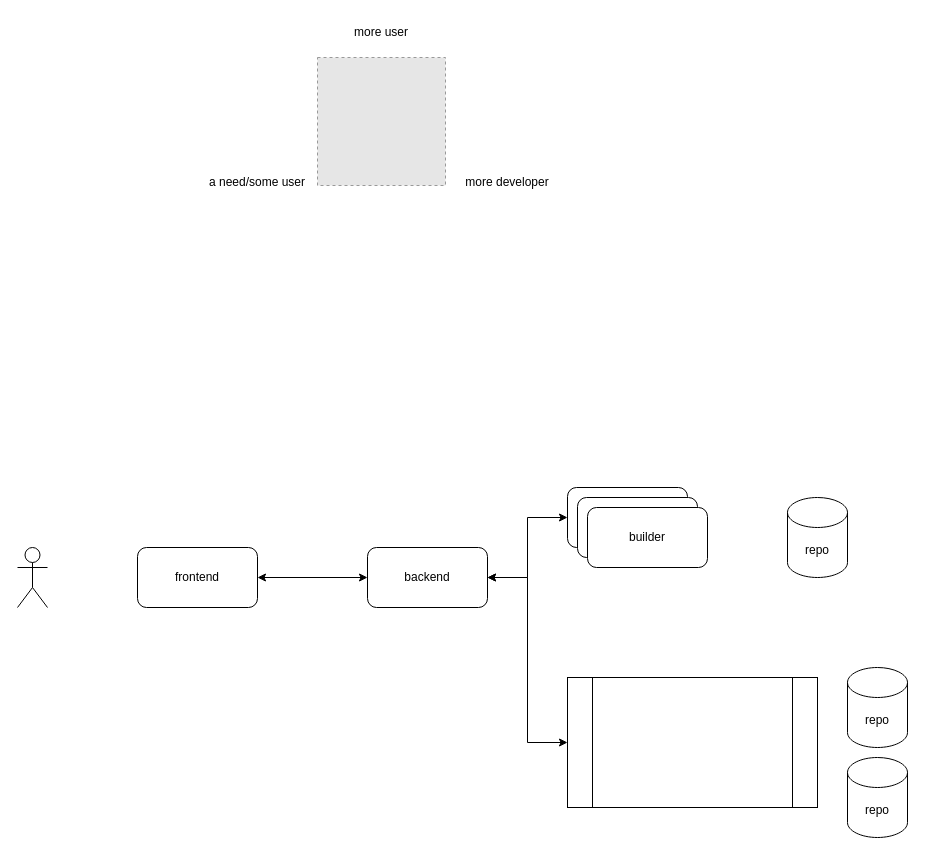
Some shapes in this 925 by 855 pixel diagram are drawn without their labels. Grey dashed boxes stand in for pictures. The shapes that lost their labels are listed below. From the top down, each one's centre as x and y in pixels, then its label:
At (32,577): "Actor".
At (692,742): "ebs".
